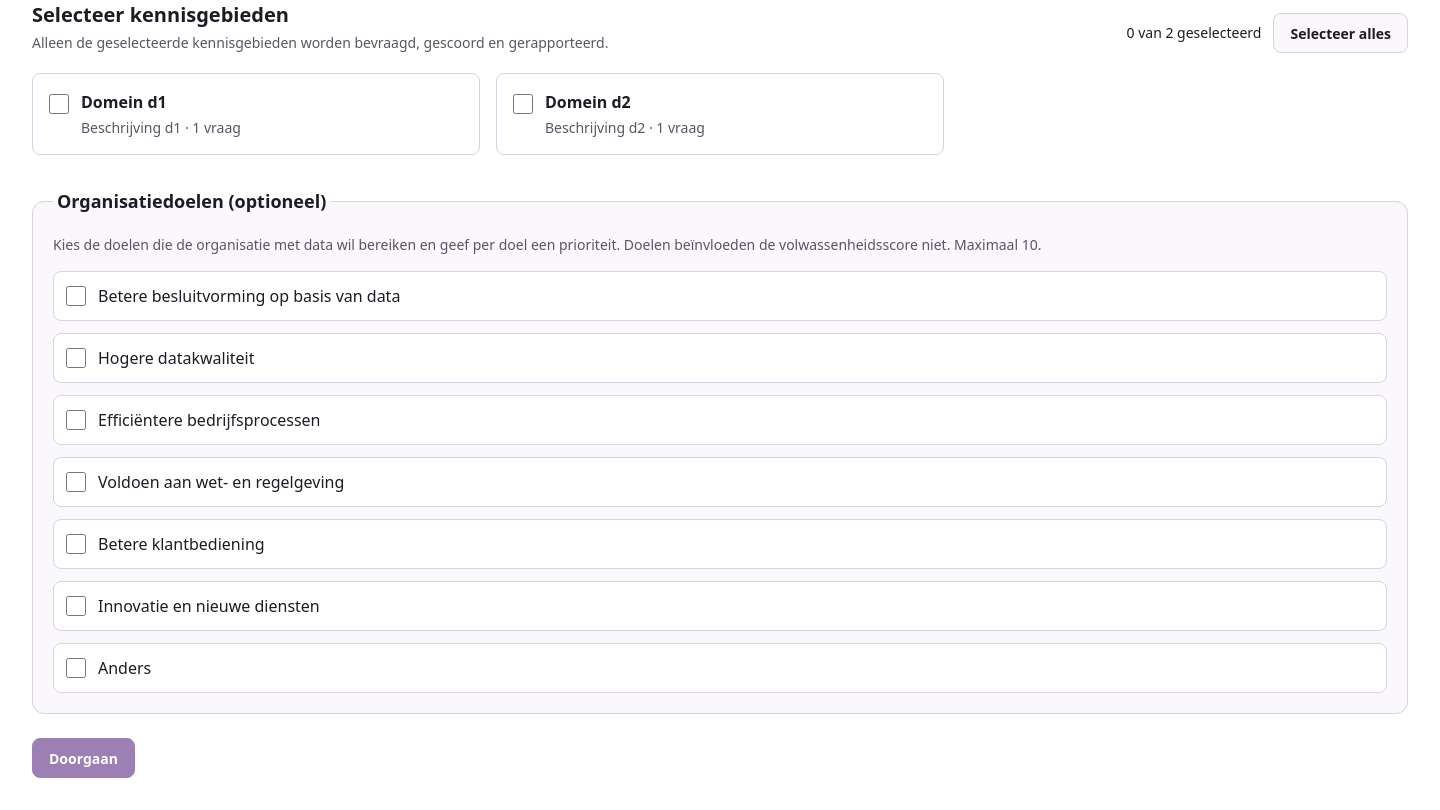
Scenario: MaturityAssessmentComponent › blocks "Doorgaan" without a selection with the exact message
This screenshot has width=1440, height=810.
(page scrolled)
Click the button "Doorgaan" at (83, 758), box [32, 738, 135, 778]
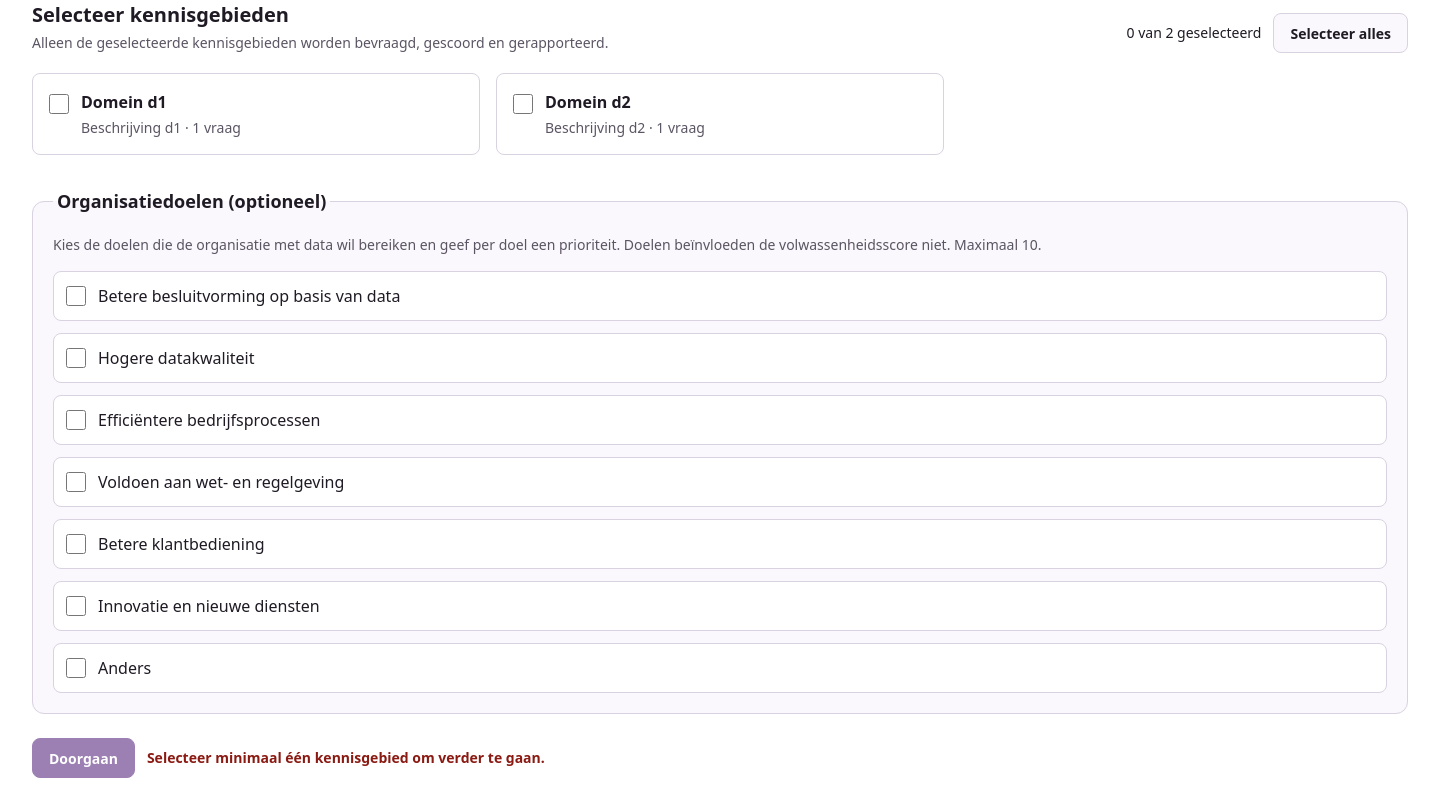
expect the message "Selecteer minimaal één kennisgebied om verder te gaan." is shown: met, box [147, 748, 545, 768]
